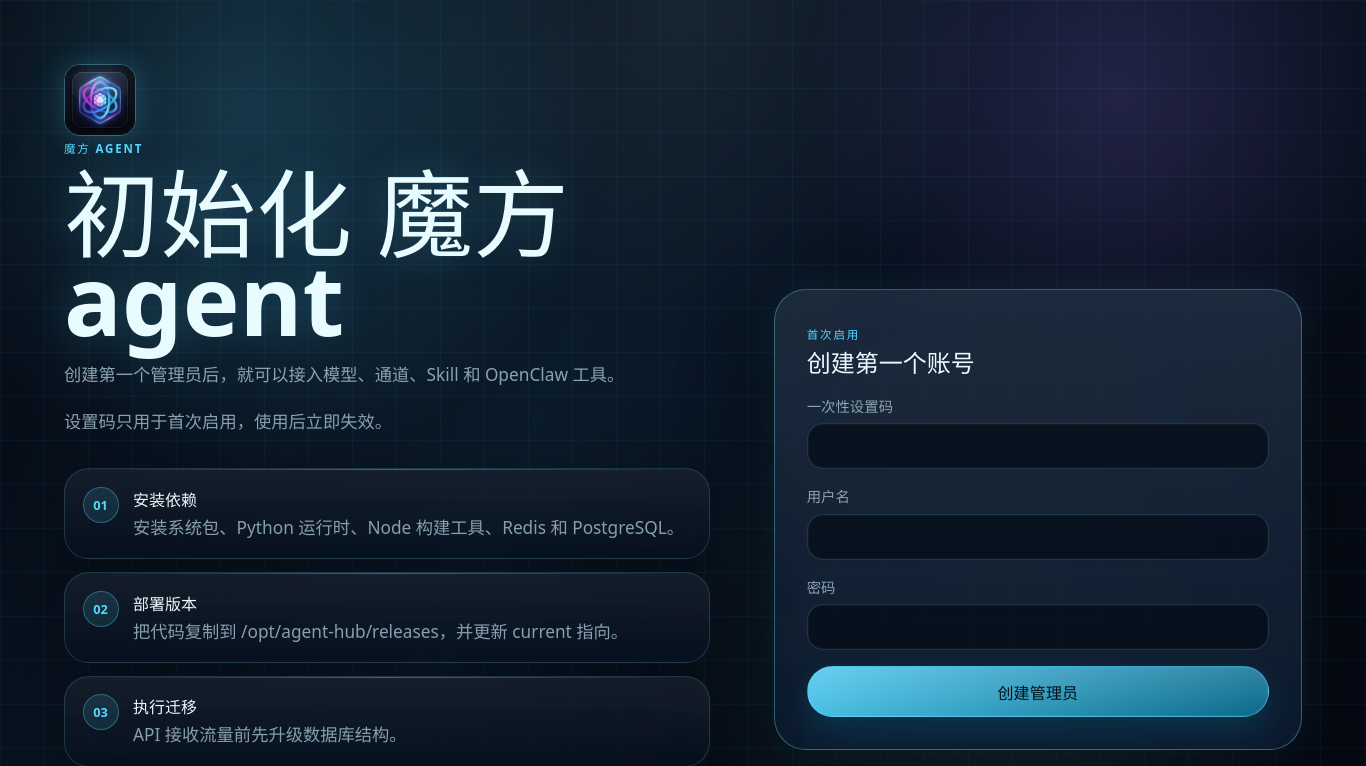
Scenario: LoginPage › creates the first admin through setup
This screenshot has width=1366, height=766.
Expected: the text "魔方 agent" is shown, [64, 141, 143, 156]
Expected: the picture with alt text "魔方 agent" is shown, [64, 64, 136, 136]
Type "setup-code" into the field named "Setup code" at (1038, 446), box [807, 423, 1269, 469]
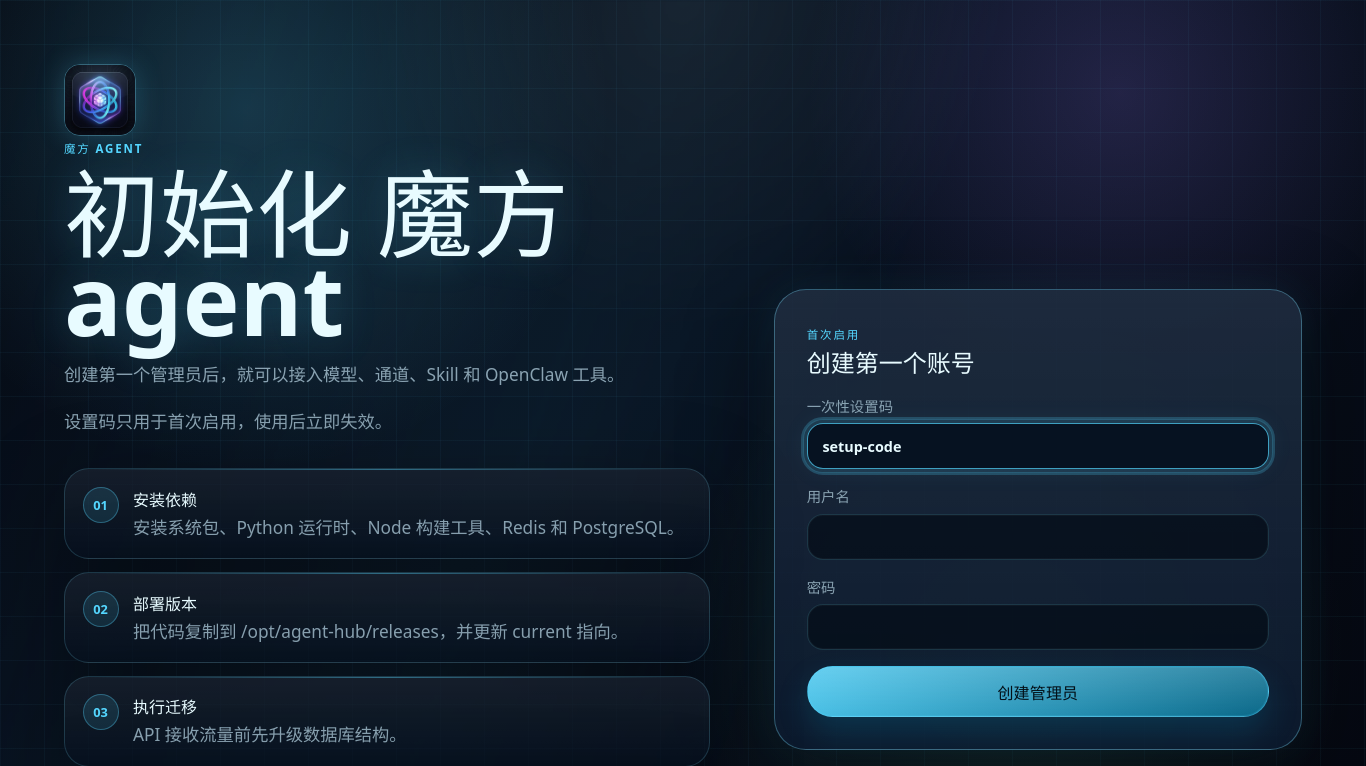
Type "owner" into the field named "Username" at (1038, 537), box [807, 514, 1269, 560]
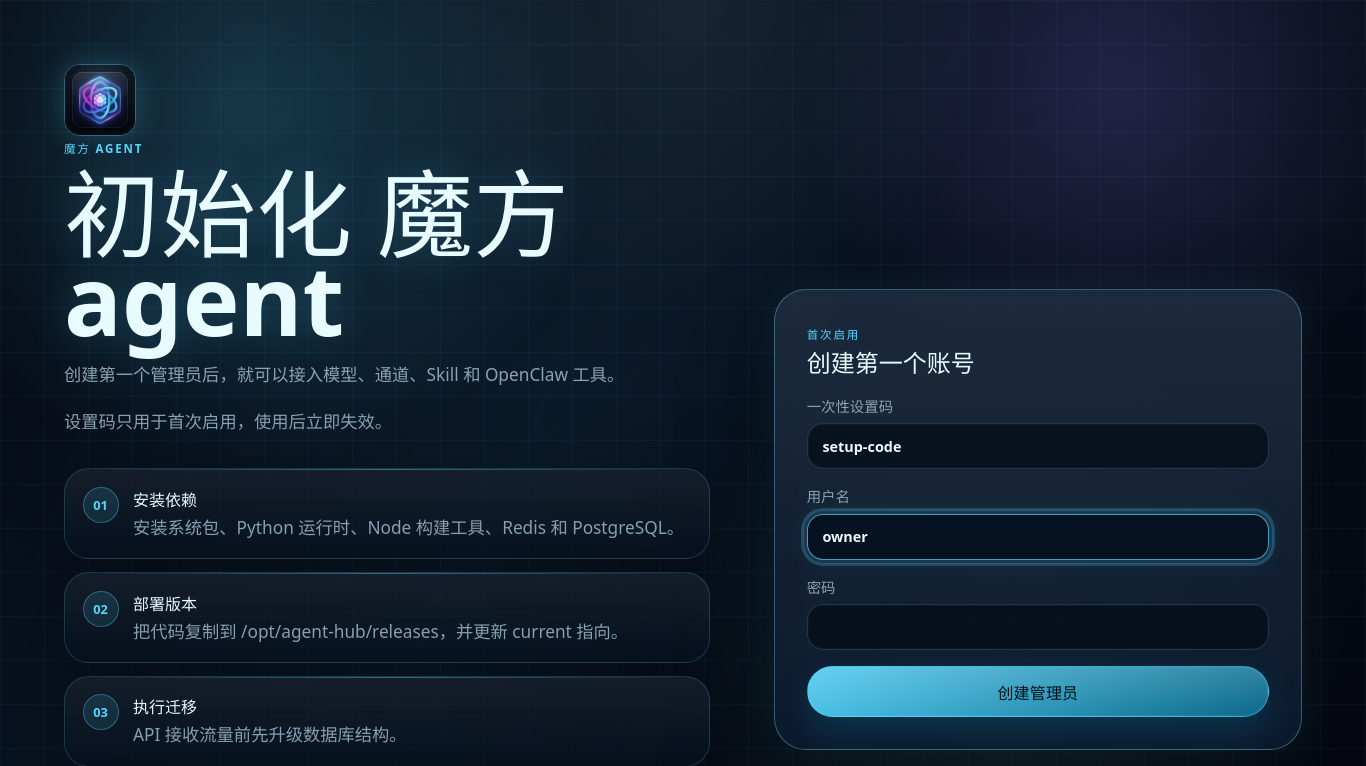
Type "correct horse battery staple" into the password field named "Password" at (1038, 627), box [807, 604, 1269, 650]
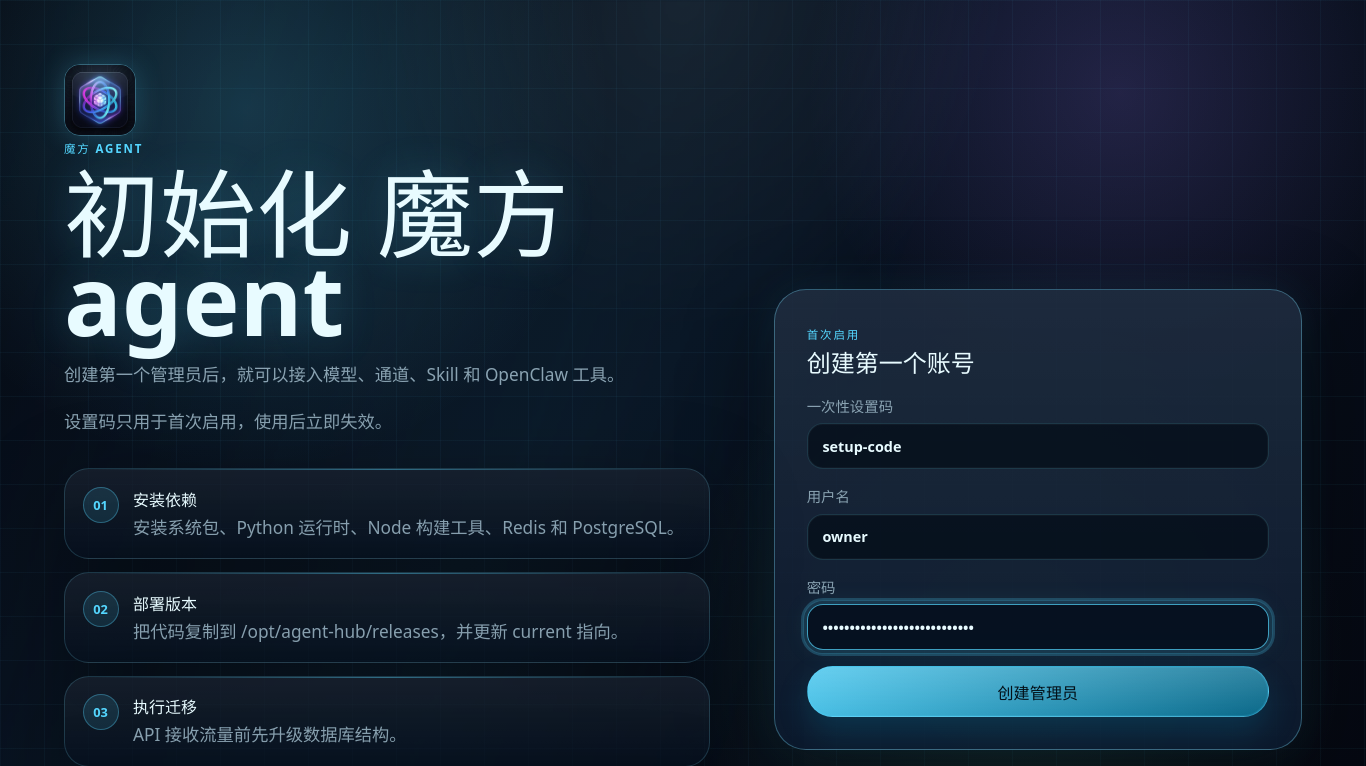
Click the button "创建管理员" at (1038, 692), box [807, 666, 1269, 717]
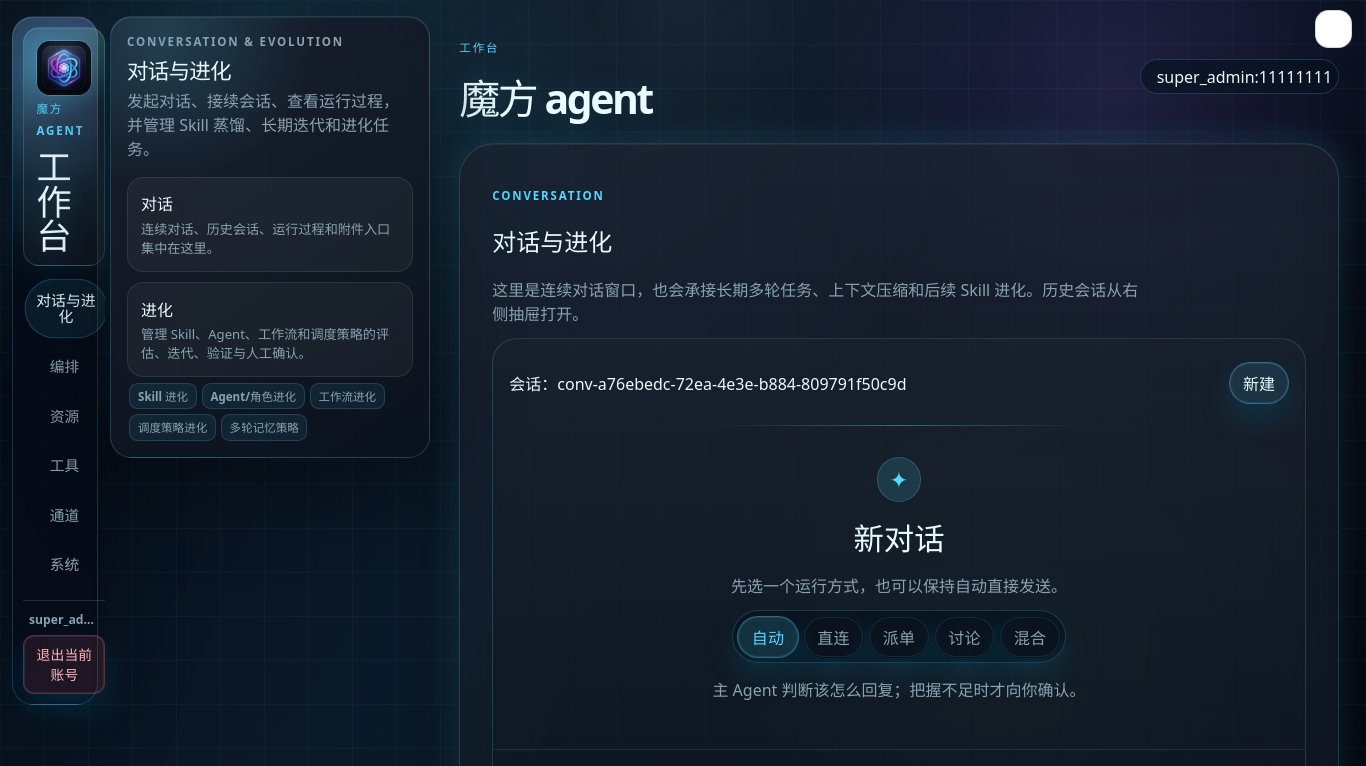
Now the heading "对话与进化" is shown, box [492, 225, 612, 258]
